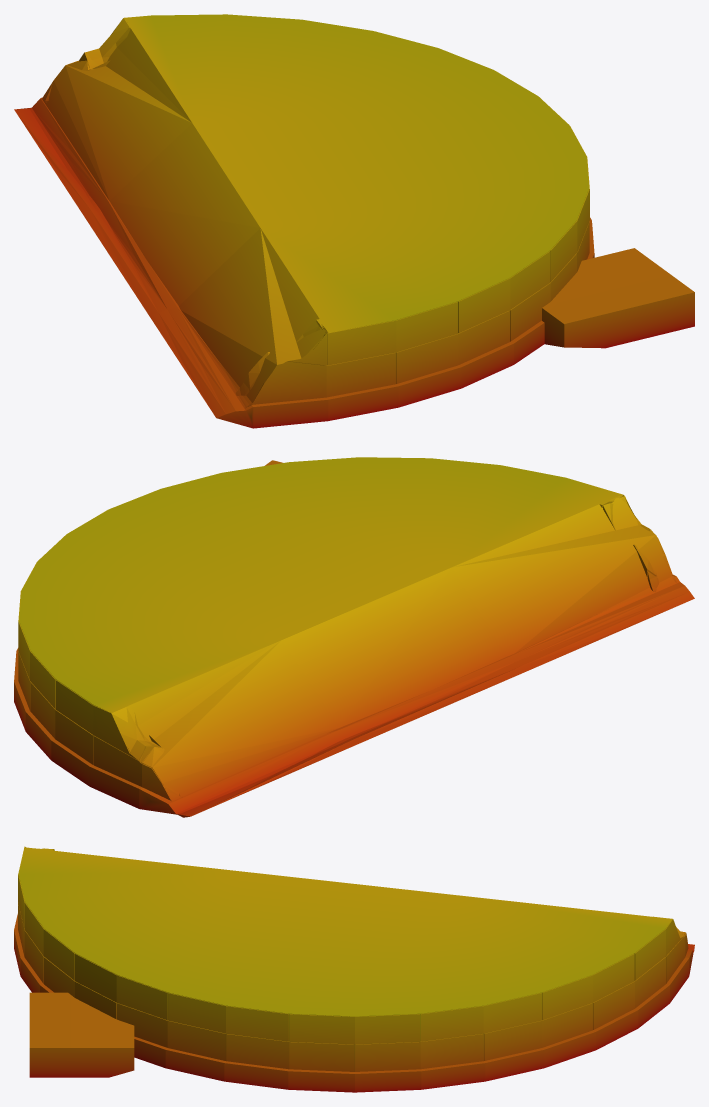
File: plinth_round_broken.glb
The picture shows the model from 3 angles, top to bottom: view 1: azimuth 30°, elevation 25°; view 2: azimuth 150°, elevation 25°; view 3: azimuth 270°, elevation 25°; orthographic projection. The views are drawn at different scales.
Parts seen in each view (by area): view 1: plinth_round_broken; view 2: plinth_round_broken; view 3: plinth_round_broken.
Part boxes in pixels (x1,y1,x2,y2): plinth_round_broken: (14,14,694,428); plinth_round_broken: (14,457,694,817); plinth_round_broken: (14,846,694,1092).
Size of what is drawn, in the model's own units: 7.33 by 1.2 by 9.99.
